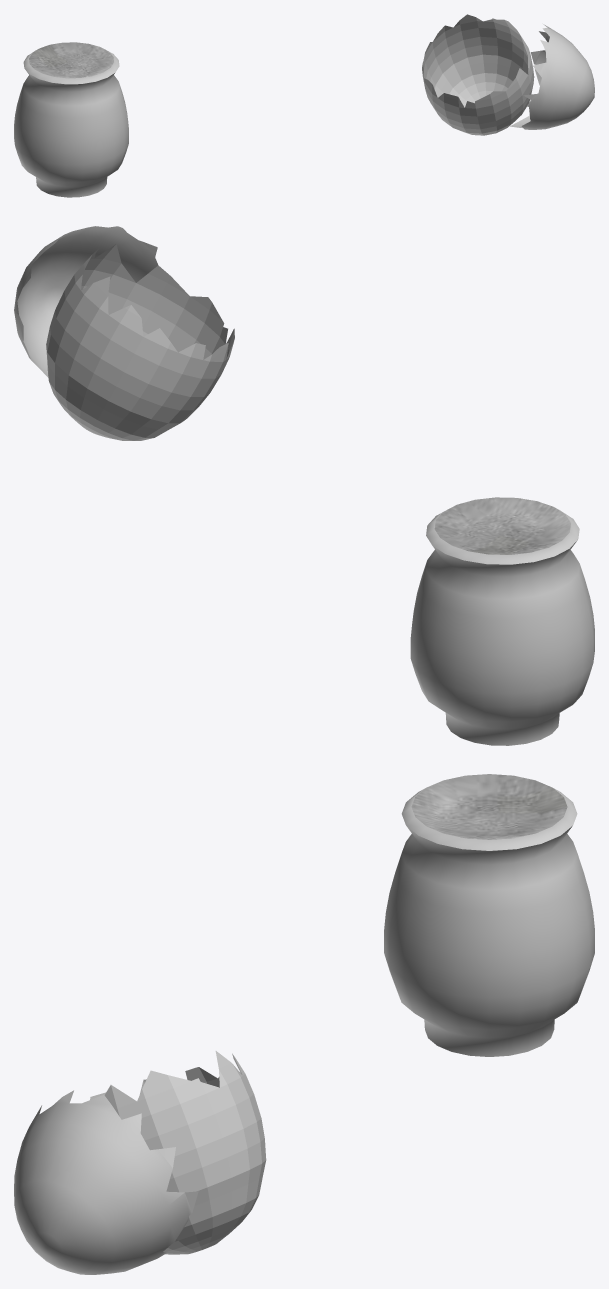
The model's file is EggAndPot.fbx.
3 views of the same model, one above another, from view 1: azimuth 30°, elevation 25°; view 2: azimuth 150°, elevation 25°; view 3: azimuth 270°, elevation 25° (orthographic). The views are drawn at different scales.
Visible parts, largest first — view 1: pCylinder1, polySurface1, polySurface2; view 2: pCylinder1, polySurface1, polySurface2; view 3: pCylinder1, polySurface2, polySurface1.
Boxes of the visible parts, box(x1,y1,x2,y2) form: pCylinder1: box(14, 42, 128, 197); polySurface1: box(422, 14, 534, 135); polySurface2: box(509, 24, 594, 129); pCylinder1: box(410, 497, 594, 745); polySurface1: box(46, 244, 234, 440); polySurface2: box(14, 226, 157, 377); pCylinder1: box(384, 774, 594, 1056); polySurface2: box(14, 1090, 198, 1274); polySurface1: box(90, 1051, 266, 1254).
Bounding box in the file's own units: 34.64 × 10.53 × 20.92.
